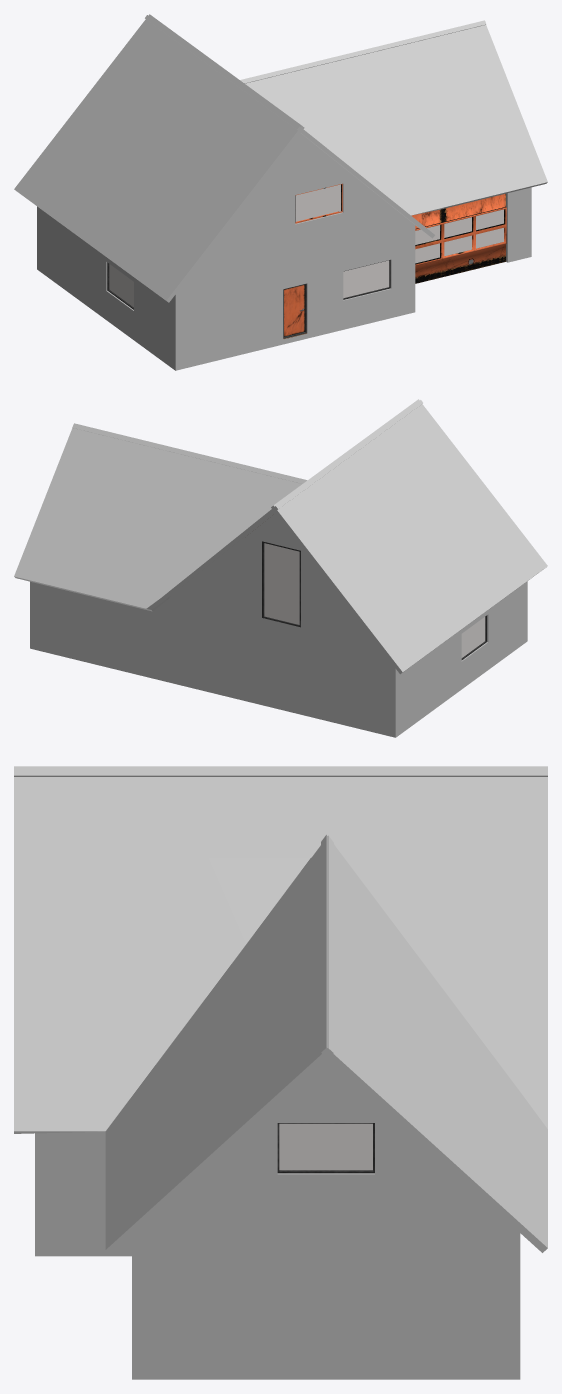
Rendered from House2.fbx.
The picture shows the model from 3 angles, top to bottom: view 1: azimuth 30°, elevation 25°; view 2: azimuth 150°, elevation 25°; view 3: azimuth 270°, elevation 25°; orthographic projection. The views are drawn at different scales.
Visible parts, largest first — view 1: House2, House2_Walls, Windows, FrontDoor; view 2: House2, House2_Walls, Windows; view 3: House2, House2_Walls, Windows.
Part boxes in pixels (bbox=[...]): House2: bbox=[14, 14, 547, 338]; House2_Walls: bbox=[37, 133, 531, 370]; Windows: bbox=[109, 184, 503, 307]; FrontDoor: bbox=[284, 285, 304, 336]; House2: bbox=[14, 399, 547, 674]; House2_Walls: bbox=[30, 513, 527, 737]; Windows: bbox=[264, 543, 485, 657]; House2: bbox=[14, 766, 547, 1254]; House2_Walls: bbox=[35, 1059, 520, 1379]; Windows: bbox=[279, 1123, 372, 1170].
Bounding box in the file's own units: 17 × 8.77 × 11.
